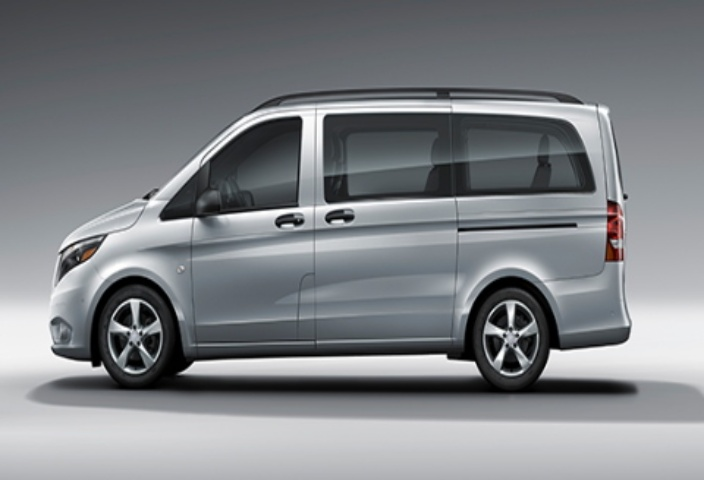van: (40, 65, 670, 418)
